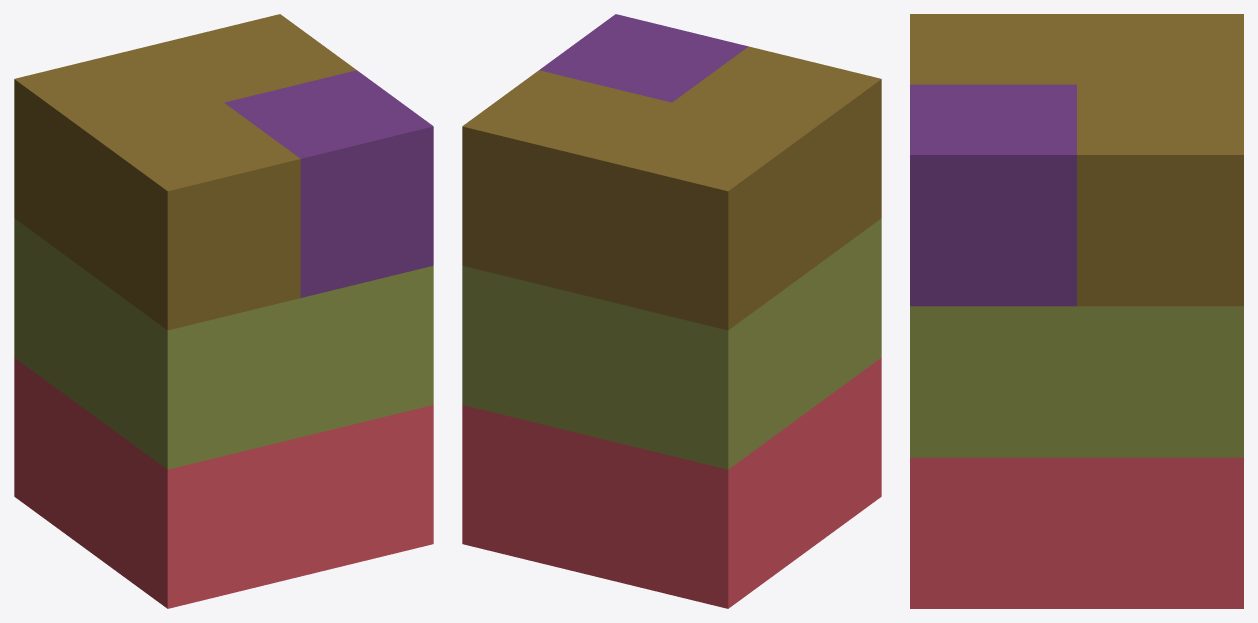
File: pills.obj
3 renders of one model, left to right at view 1: azimuth 30°, elevation 25°; view 2: azimuth 150°, elevation 25°; view 3: azimuth 270°, elevation 25°, orthographic. The views are drawn at different scales.
Bounding box in the file's own units: 2 × 3 × 2.
Materials: 1 (1 with a texture image).
